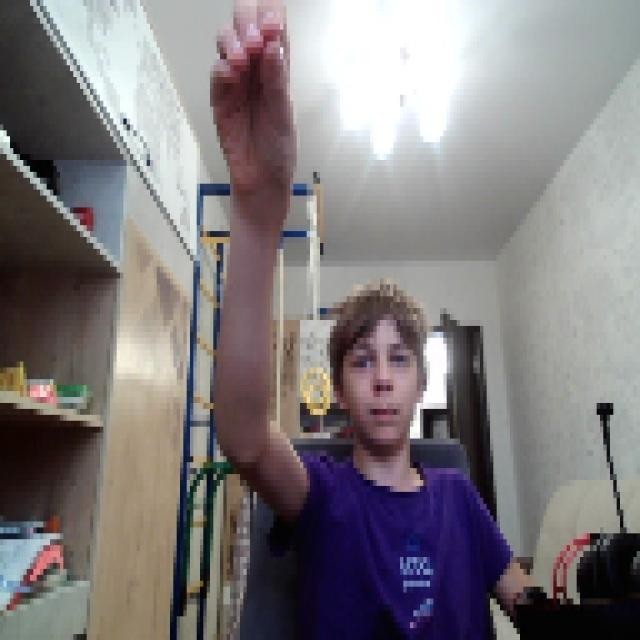left_click: (206, 0, 296, 190)
